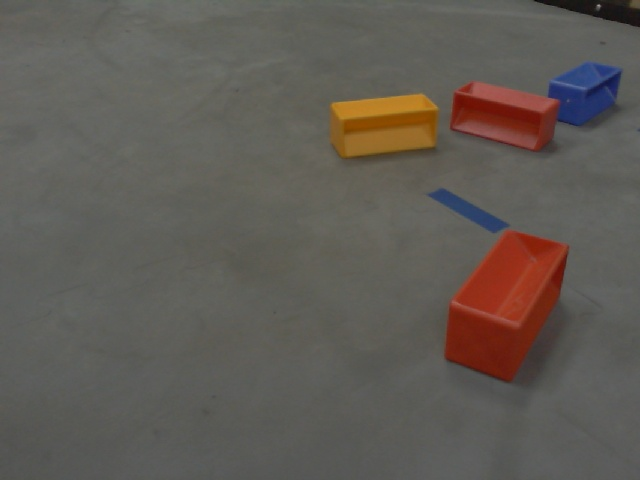BlueSample: (546, 56, 621, 128)
RedSample: (441, 224, 571, 382), (448, 78, 558, 155)
YellowSample: (324, 92, 441, 158)
